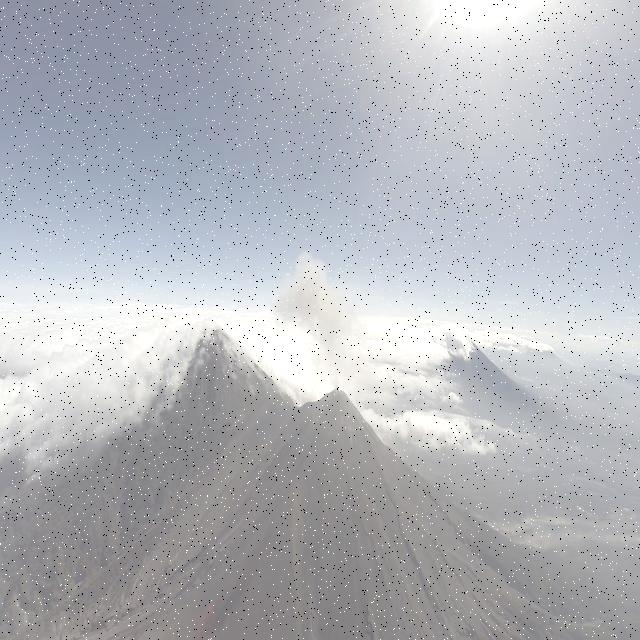Plume: (272, 250, 358, 372)
Summit: (298, 386, 384, 448)
